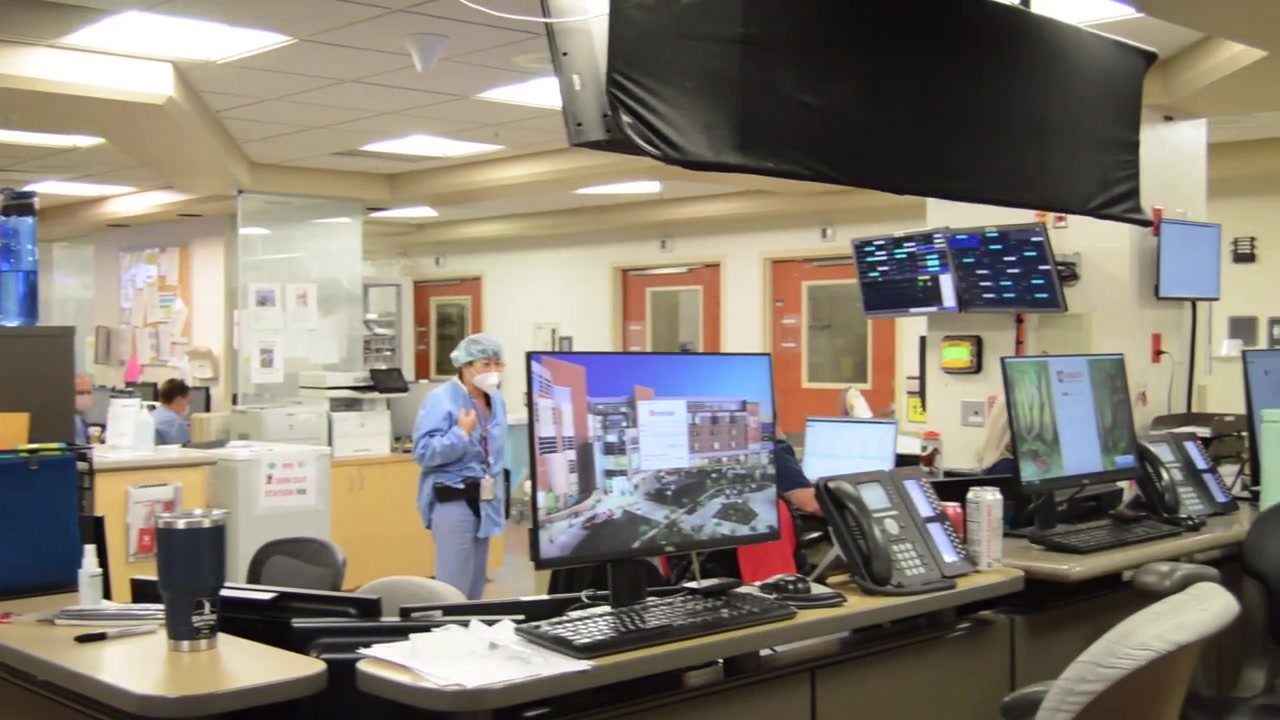TV: (945, 222, 1068, 315), (850, 226, 961, 319), (1154, 214, 1224, 303)
chair: (1000, 577, 1237, 720), (1248, 493, 1280, 720), (246, 535, 348, 592), (352, 575, 469, 617)
computer: (525, 352, 781, 570), (1000, 353, 1145, 493), (801, 416, 898, 485), (1241, 348, 1280, 488), (930, 473, 1019, 529)
counter: (96, 434, 502, 566)
countertop: (381, 591, 1026, 711), (1, 591, 328, 720), (999, 502, 1280, 584)
handle: (359, 470, 366, 492), (349, 471, 356, 493)
keyboard: (514, 590, 797, 659), (1027, 518, 1185, 554)
mouse: (758, 573, 811, 595), (1178, 513, 1202, 531)
staff: (412, 333, 510, 601), (149, 378, 191, 444), (72, 374, 95, 446)
telephone: (816, 466, 976, 595), (1134, 432, 1241, 519)
